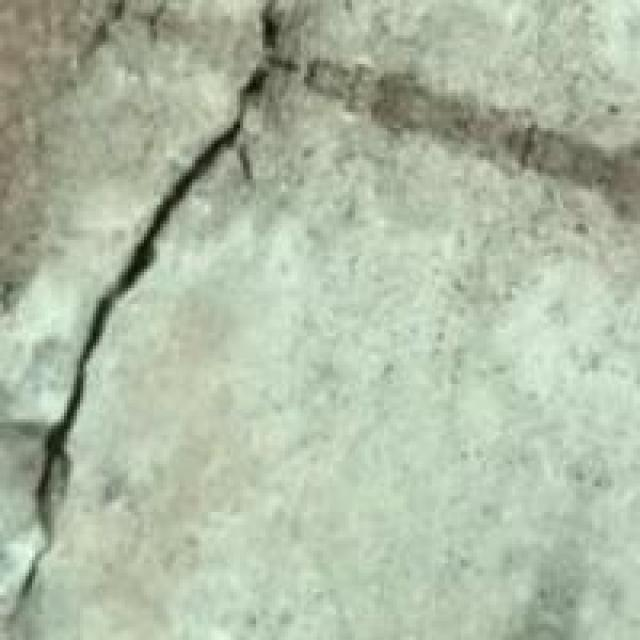crack: (3, 13, 330, 637)
